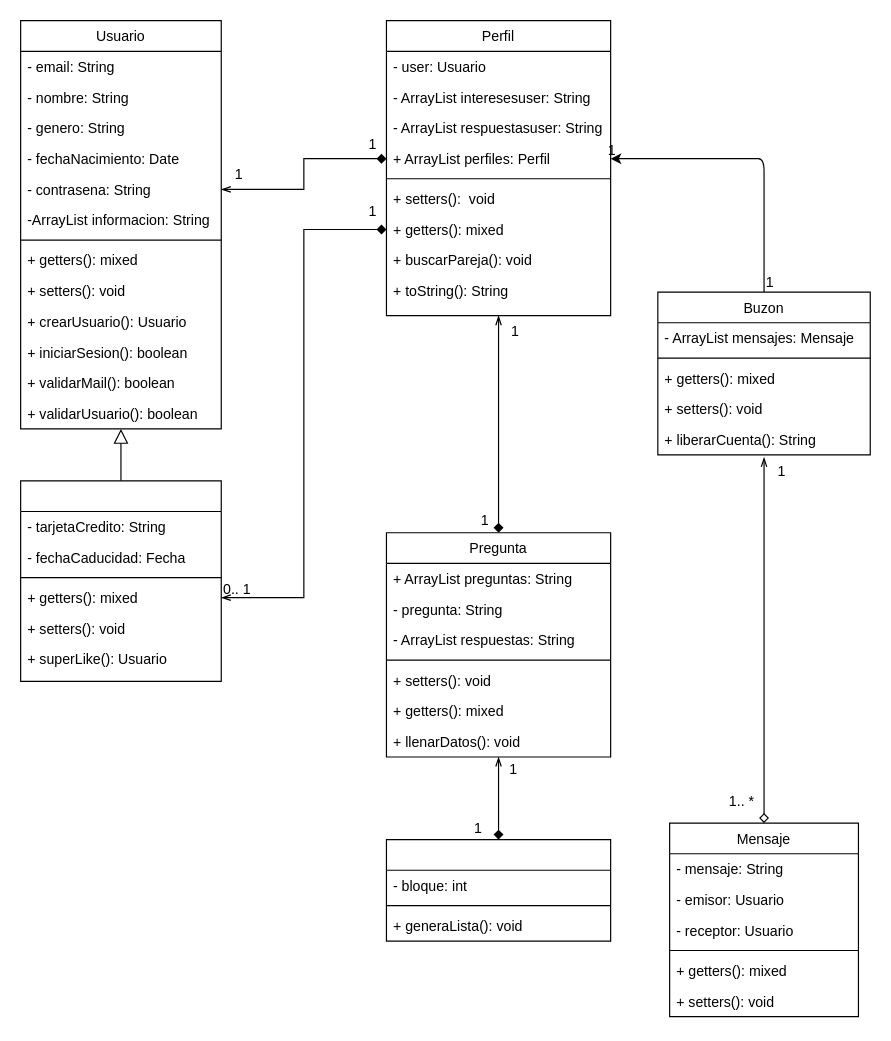
The diagram is 891 pixels wide and 1041 high, and some of its shapes have lost their labels. The shapes that lost their labels are listed below. From the top down, each one's box as (x1, y1, x2, y2) in pixels, then its label:
(19, 480, 221, 681): UsuarioPremium
(385, 838, 611, 941): ListaRespuesta
